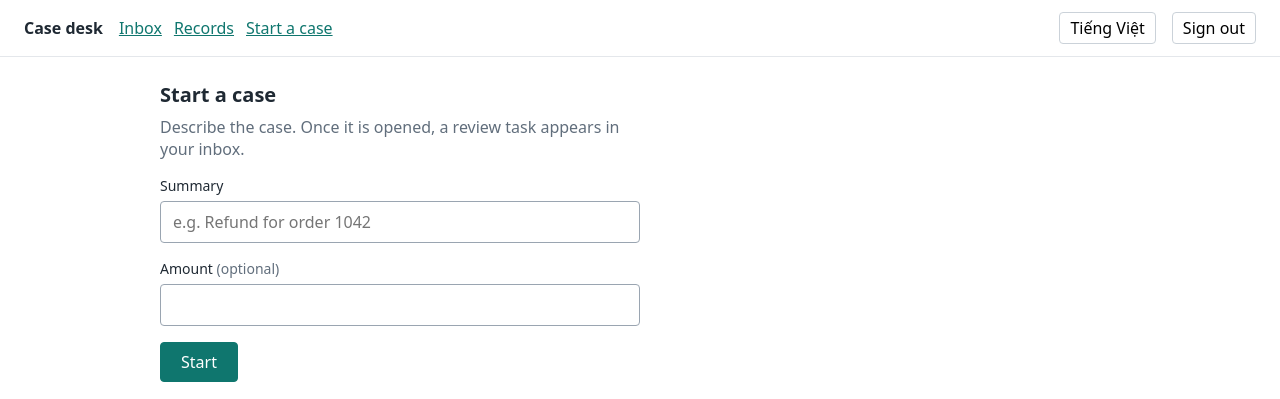
Scenario: App › Start a case › is in Vietnamese after the switch
The image size is (1280, 399).
Click the button "Tiếng Việt". click: (1108, 28)
box: [1059, 12, 1156, 44]
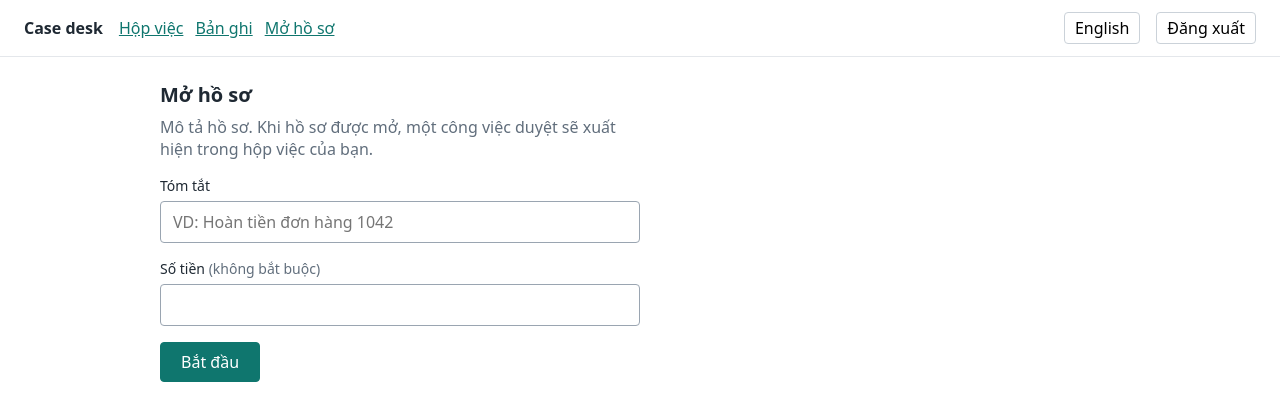
Expected: the field labelled "Tóm tắt" is shown, [160, 201, 640, 243]
Result: the button "Bắt đầu" is shown at [160, 342, 260, 382]
